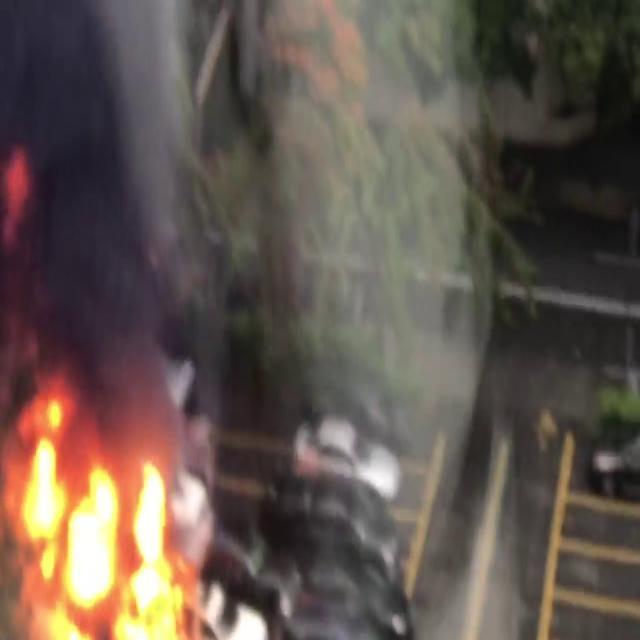Fire: (14, 402, 192, 634)
Smoke: (0, 0, 213, 401)
